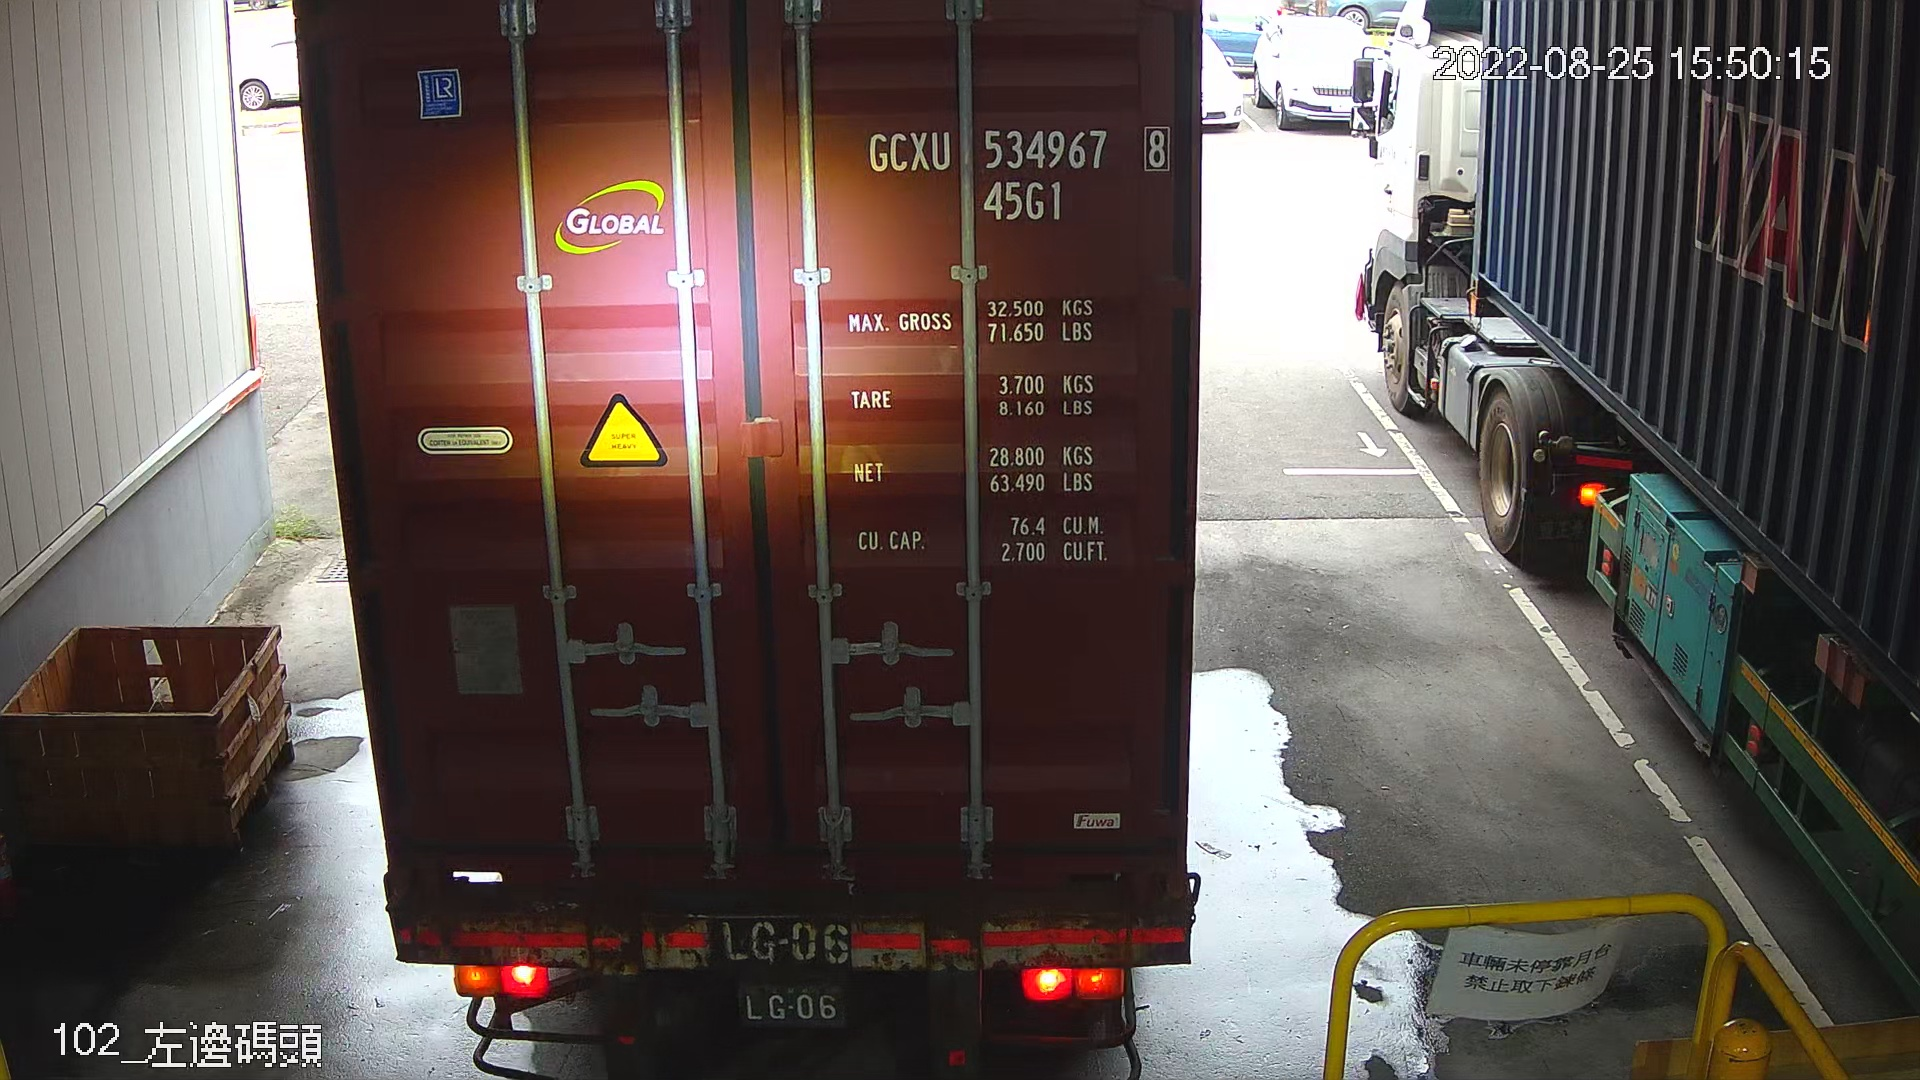container: (853, 109, 1178, 229)
